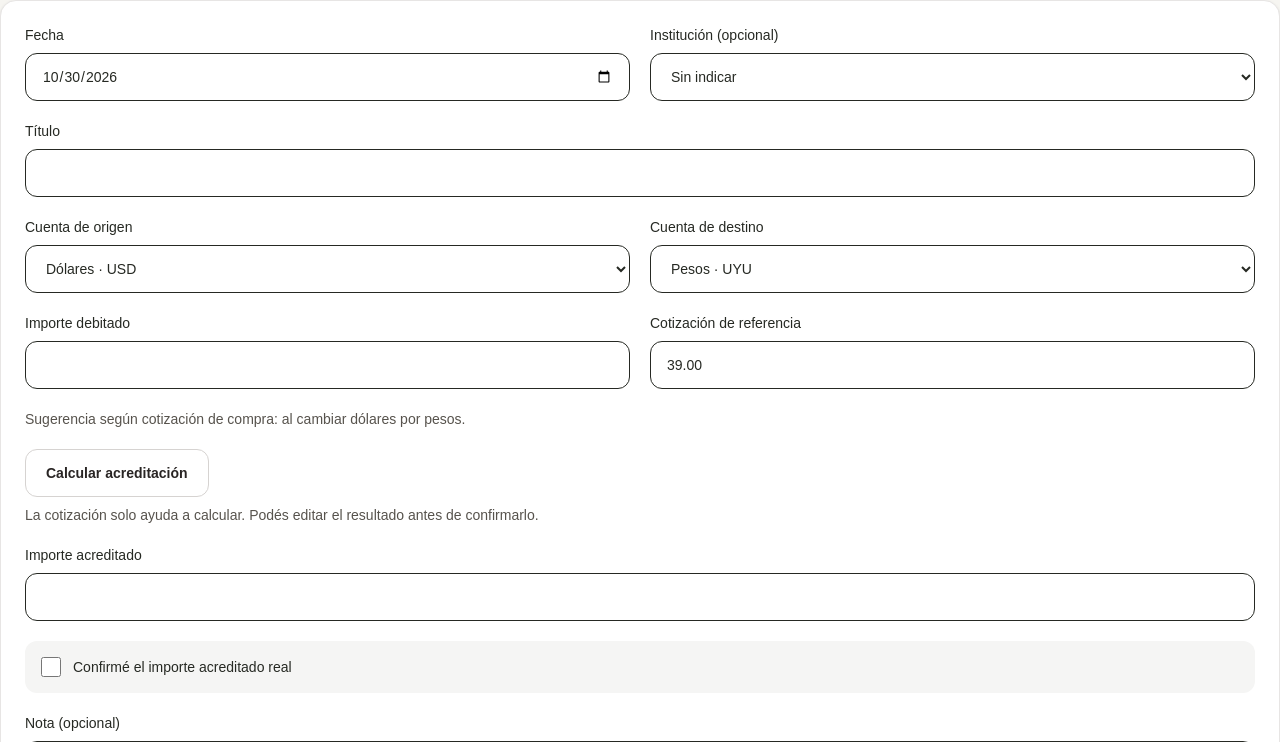
Test case: formulario de conversiones › sugiere compra al vender dólares y venta al comprar dólares
The width and height of the screenshot is (1280, 742).
Expected: the field labelled "Cotización de referencia" holds "39.00", [650,341,1255,389]
Expected: the text "cotización de compra" is shown, [25,411,466,427]
Step 1. Select "Pesos · UYU" in the dropdown labelled "Cuenta de origen" → (328, 269), box [25,245,630,293]
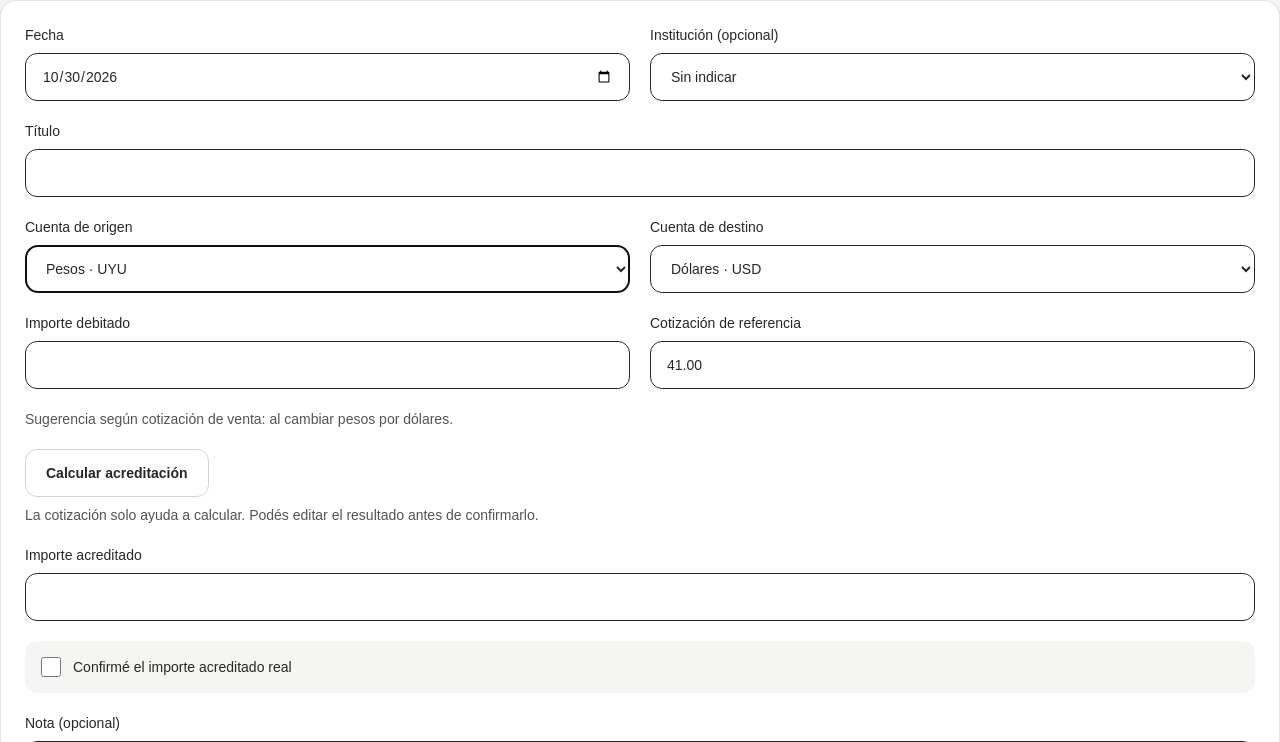
Now the field labelled "Cotización de referencia" holds "41.00", box [650,341,1255,389]
Now the text "cotización de venta" is shown, box [25,411,453,427]
Now the dropdown labelled "Cuenta de destino" shows "Dólares · USD", box [650,245,1255,293]
